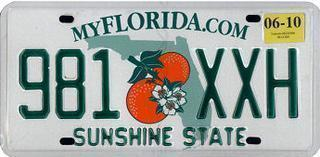placa de veiculo: (5, 1, 317, 156)
